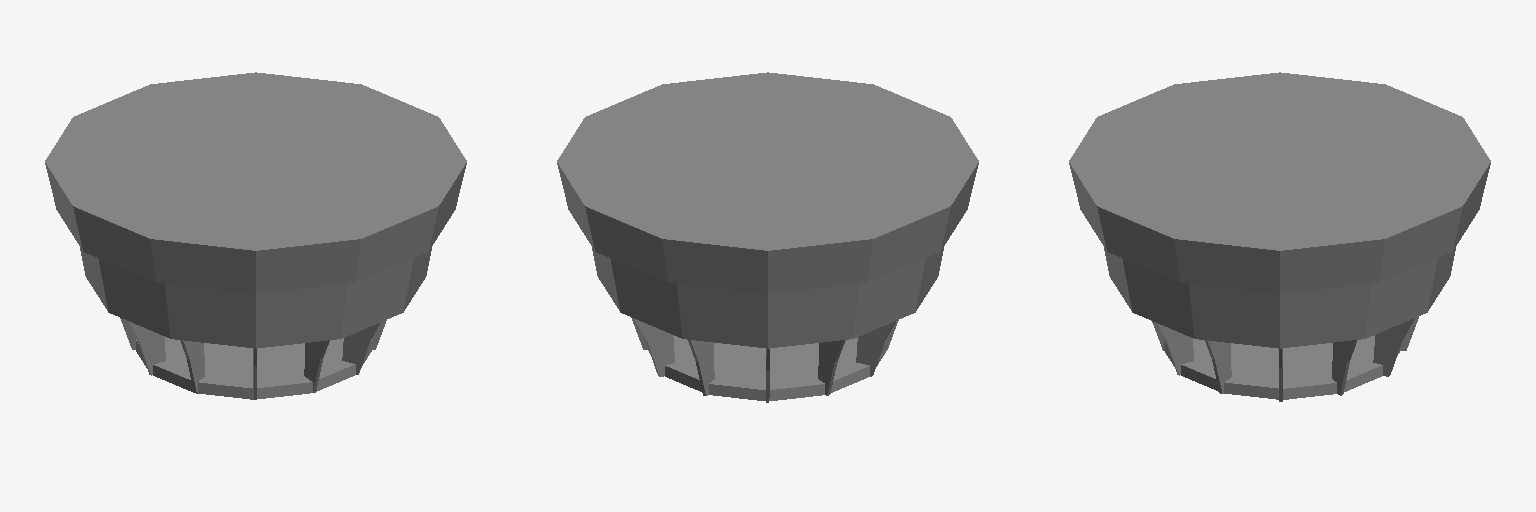
Rendered from DAN-yangan.obj.
3 views of the same model, side by side, from view 1: azimuth 30°, elevation 25°; view 2: azimuth 150°, elevation 25°; view 3: azimuth 270°, elevation 25° (orthographic).
Parts seen in each view (by area): view 1: yangan; view 2: yangan; view 3: yangan.
Boxes of the visible parts, box(x1,y1,x2,y2) form: yangan: box(45, 72, 466, 399); yangan: box(557, 72, 978, 402); yangan: box(1069, 72, 1490, 401).
Size of the model in its own units: 108 by 53.1 by 108.